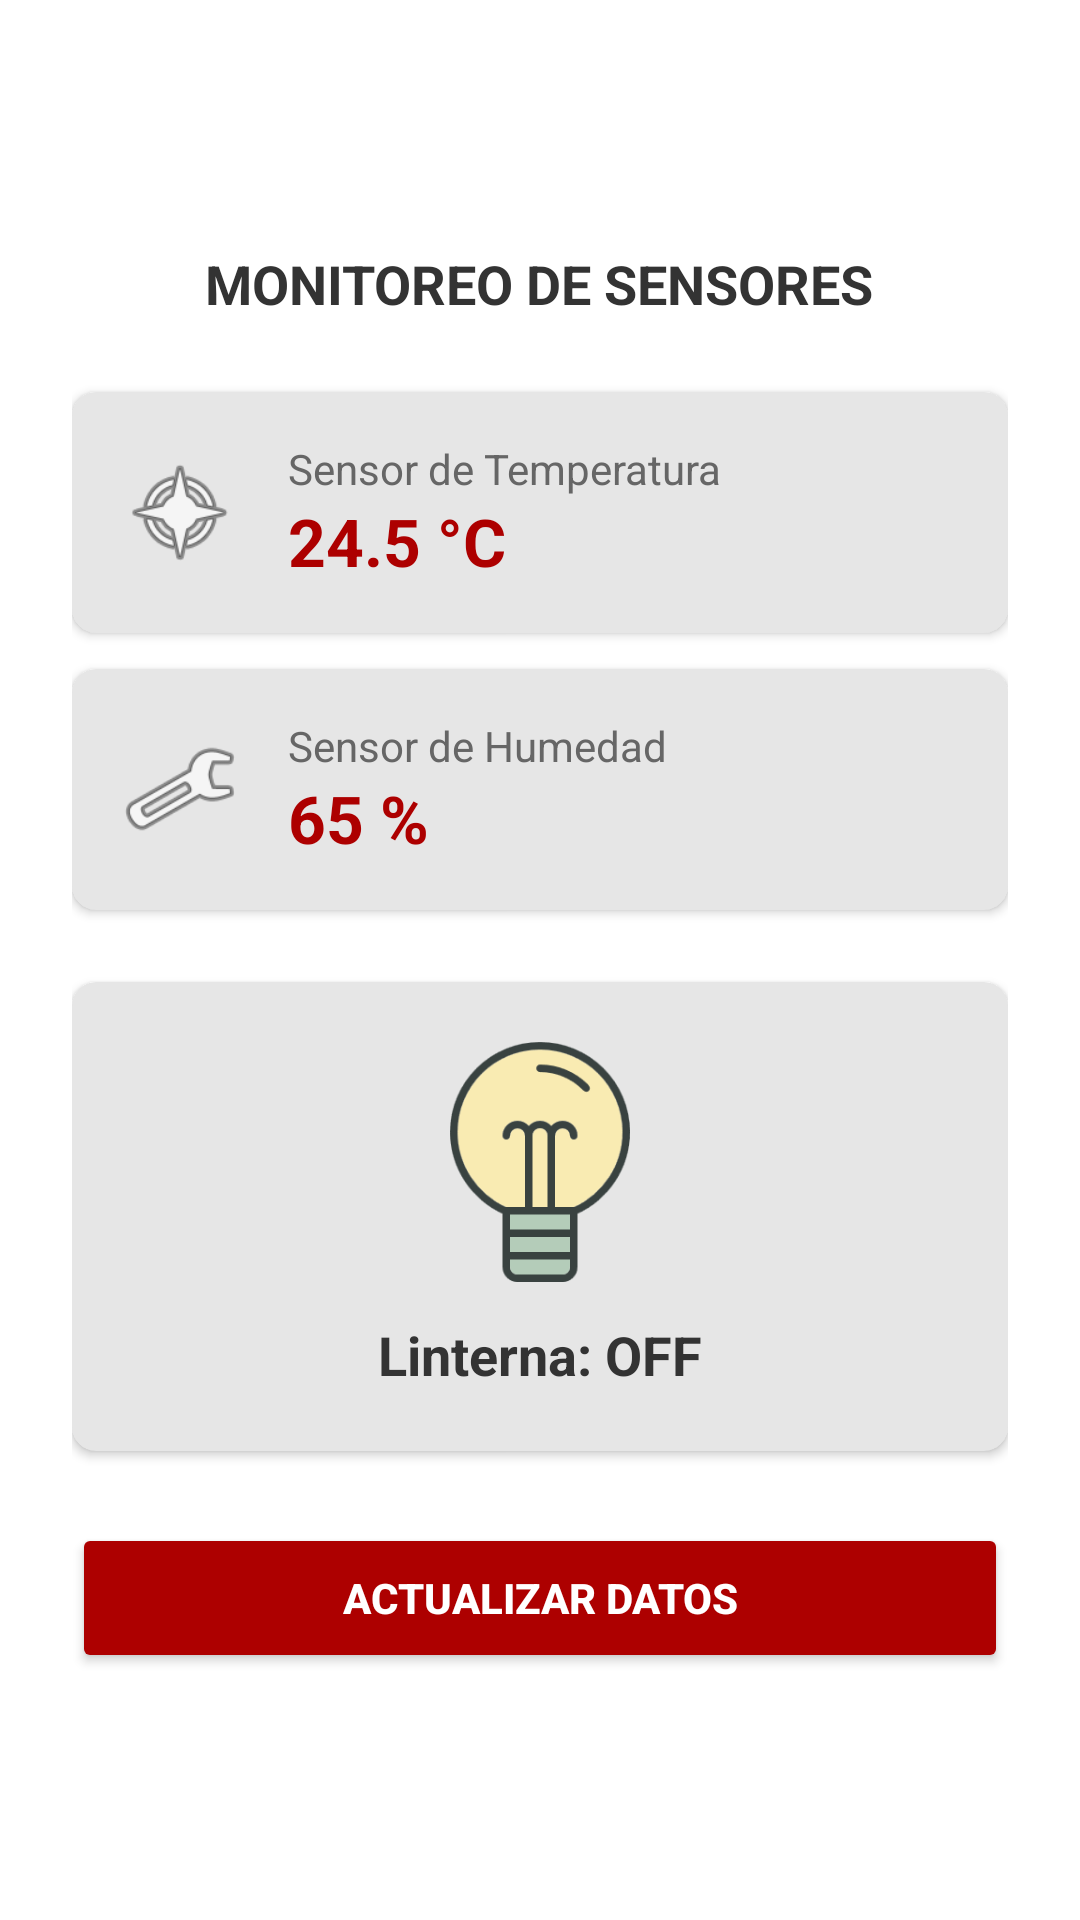

Locate icon controls on the screen. Image size 1080×1920, boxes as (x1, y1, x2, y2).
compass: (132, 465, 227, 560)
manage: (126, 748, 234, 830)
